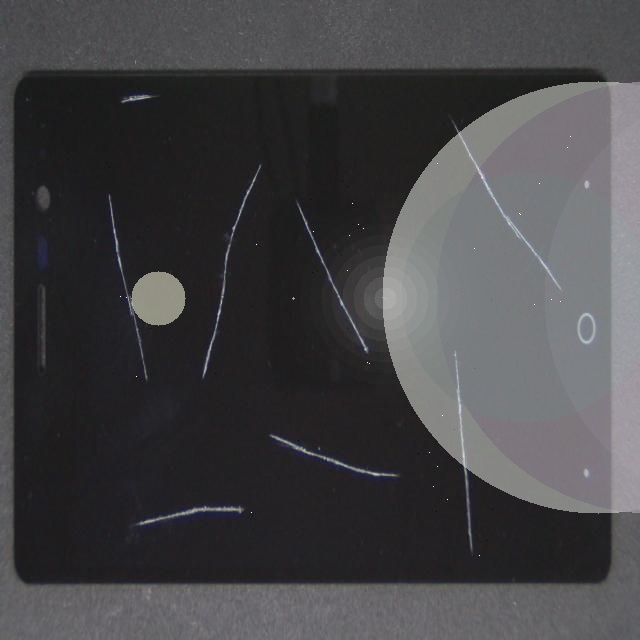scratch: (185, 190, 555, 571), (251, 164, 640, 523), (142, 195, 389, 640), (78, 164, 285, 574), (246, 19, 640, 183), (60, 246, 174, 640), (79, 73, 182, 255), (101, 45, 210, 136)
